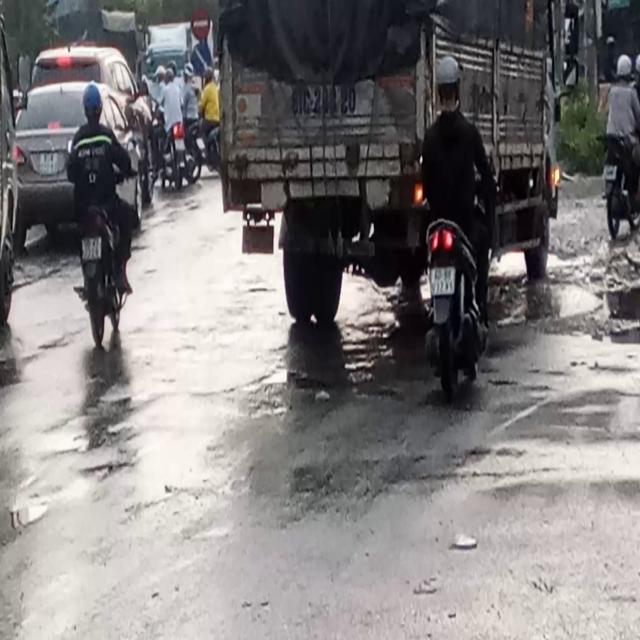bien_trang: (429, 268, 458, 298)
